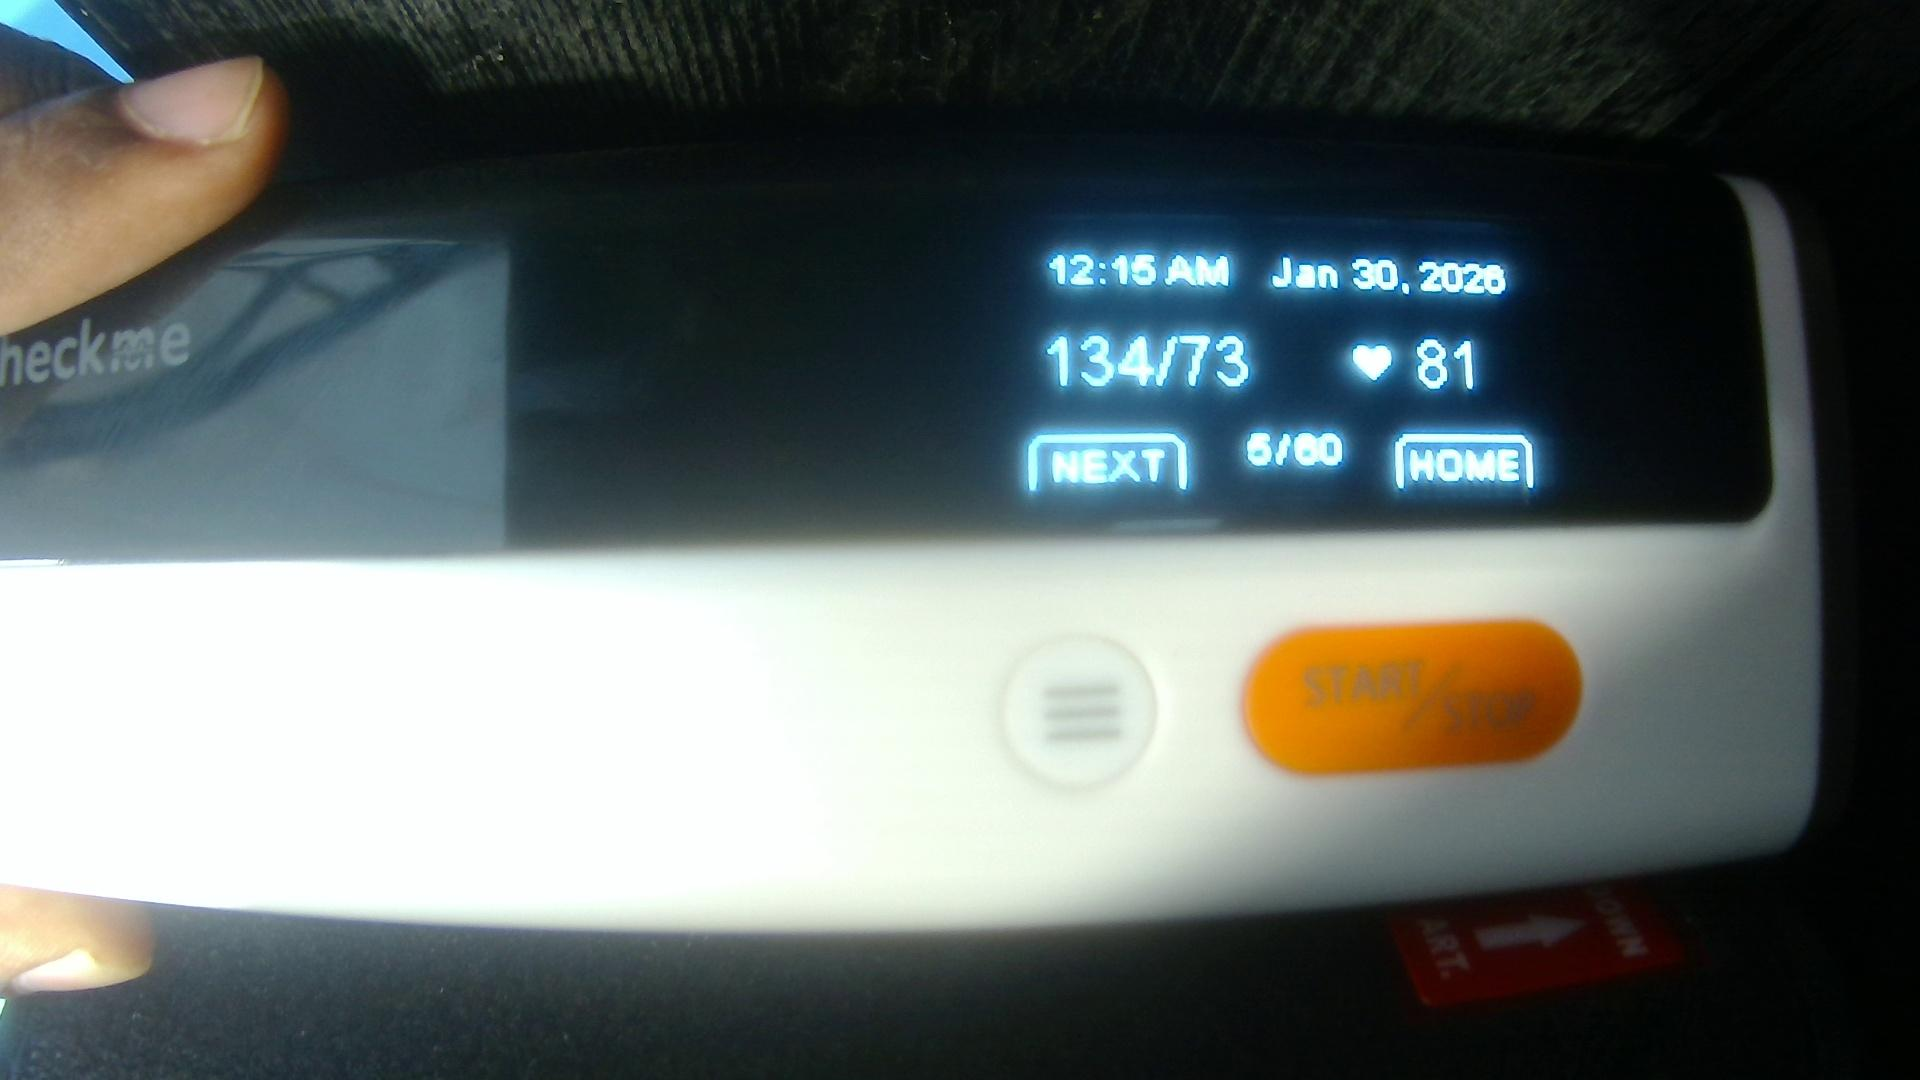DISPLAY: (199, 190, 1761, 559)
